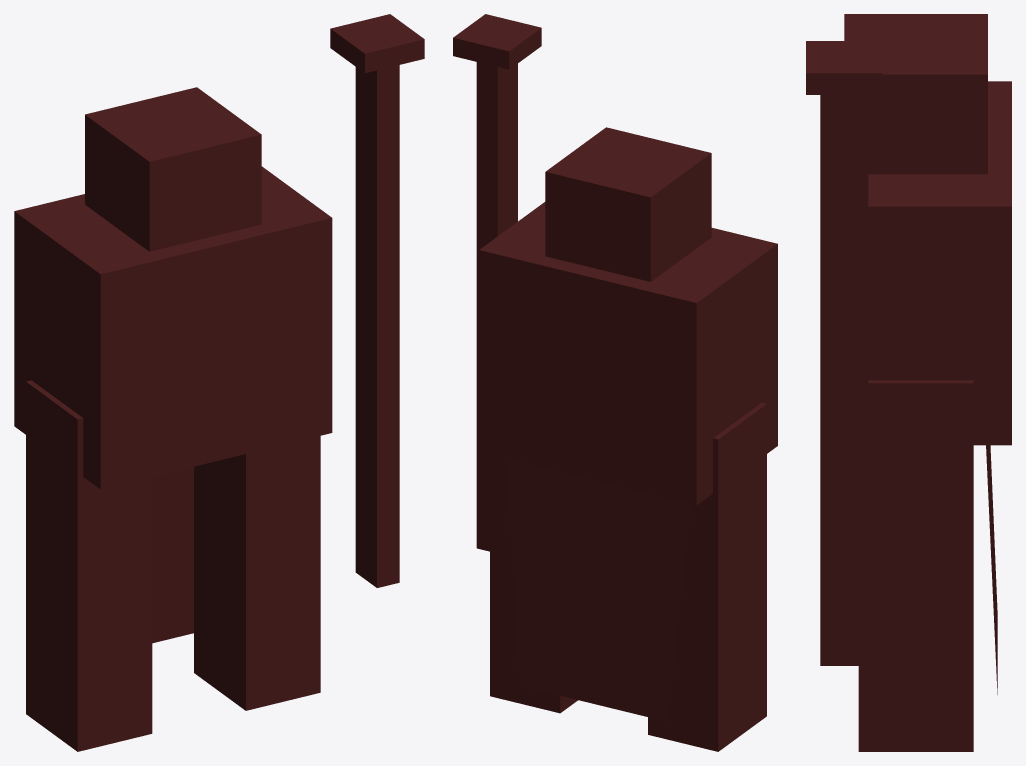
The model's file is boss_knight.obj.
3 views of the same model, side by side, from view 1: azimuth 30°, elevation 25°; view 2: azimuth 150°, elevation 25°; view 3: azimuth 270°, elevation 25° (orthographic). The views are drawn at different scales.
Parts seen in each view (by area): view 1: boss_knight; view 2: boss_knight; view 3: boss_knight.
Boxes of the visible parts, <box> form: boss_knight: <box>14,14,424,751</box>; boss_knight: <box>453,14,777,751</box>; boss_knight: <box>806,14,1011,751</box>.
Size of the model in its own units: 1.73 by 3.33 by 0.86.
